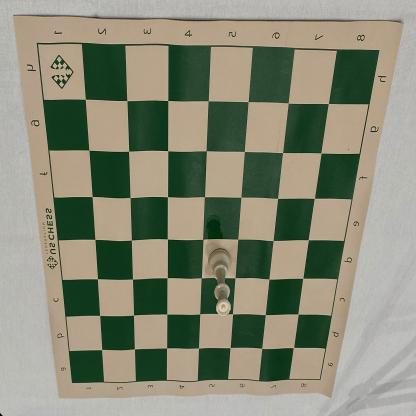white-queen: (208, 247, 232, 317)
